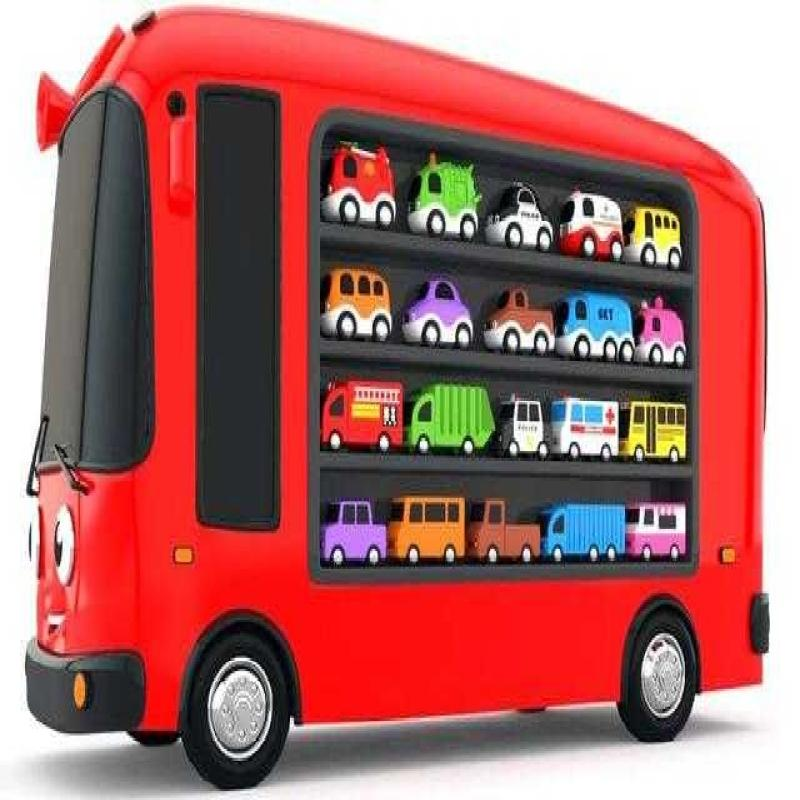bus: (28, 12, 800, 734)
